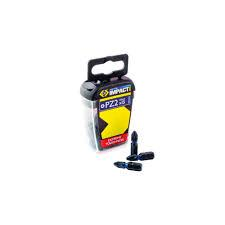screwdriver: (112, 160, 143, 170), (126, 150, 155, 160), (130, 130, 137, 154)
